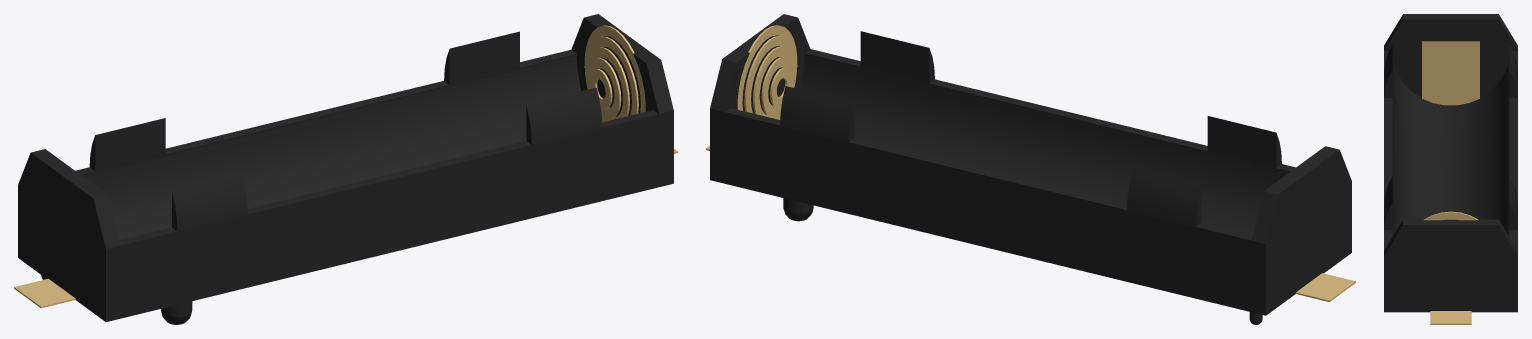
File: kc-batteryholder_keystone_1042_1x18650.glb
3 views of the same model, side by side, from view 1: azimuth 30°, elevation 25°; view 2: azimuth 150°, elevation 25°; view 3: azimuth 270°, elevation 25° (orthographic). The views are drawn at different scales.
Visible parts, largest first — view 1: 0_0_0_0, 0.75_0.5_0.25_0.9; view 2: 0_0_0_0, 0.75_0.5_0.25_0.9; view 3: 0_0_0_0, 0.75_0.5_0.25_0.9.
Part boxes in pixels (x1,y1,x2,y2): 0_0_0_0: (18,14,673,324); 0.75_0.5_0.25_0.9: (14,25,677,308); 0_0_0_0: (710,14,1351,324); 0.75_0.5_0.25_0.9: (706,25,1355,301); 0_0_0_0: (1384,14,1517,312); 0.75_0.5_0.25_0.9: (1422,41,1479,324).
Bounding box in the file's own units: 8.64 × 1.98 × 2.06.
